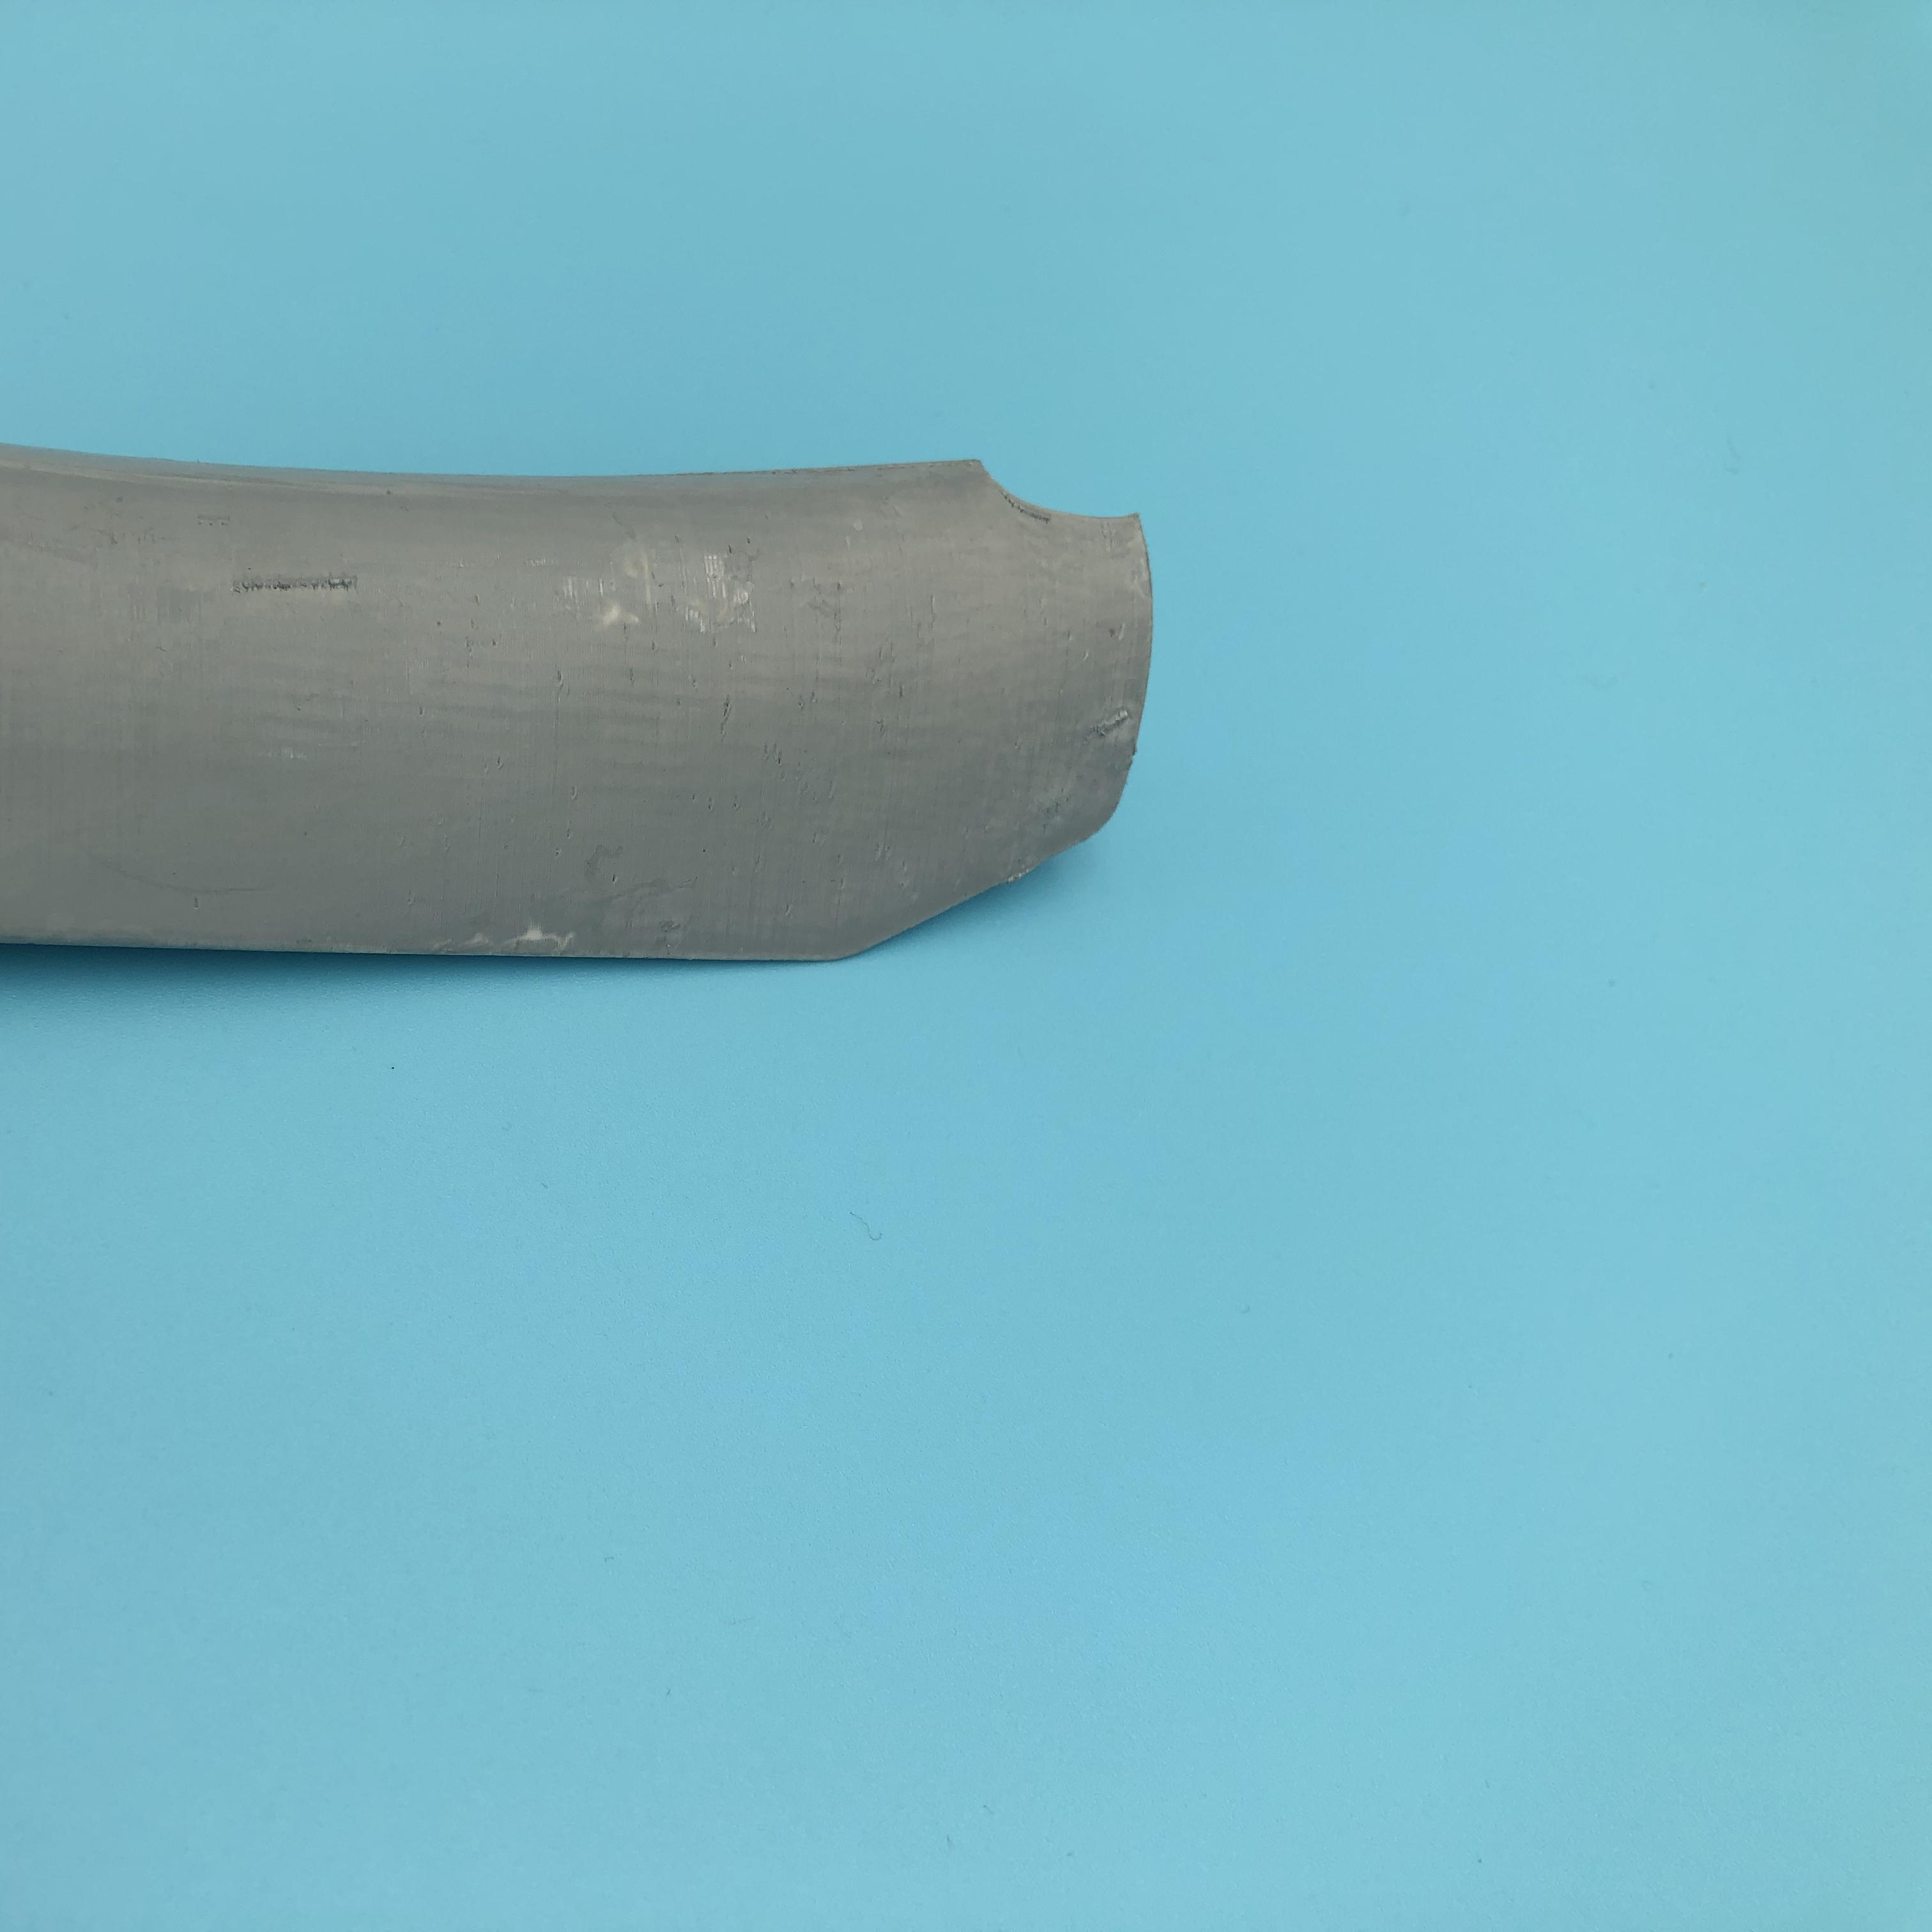fracture: (961, 453, 1168, 543)
